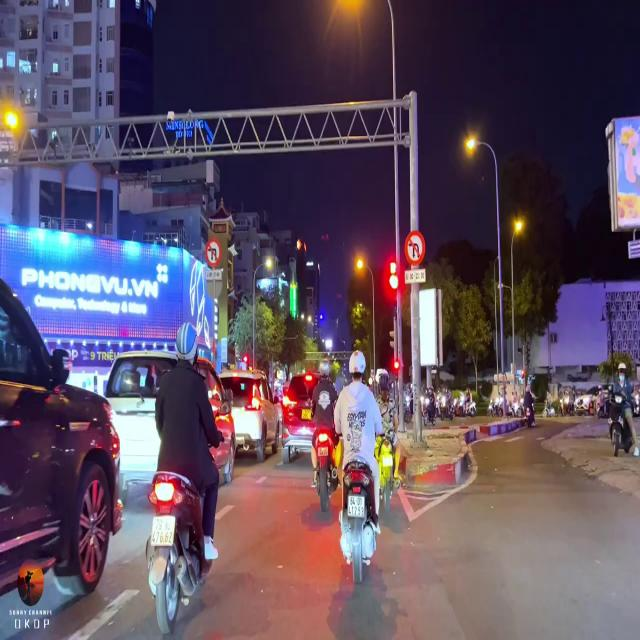bien_trang: (348, 496, 366, 519)
